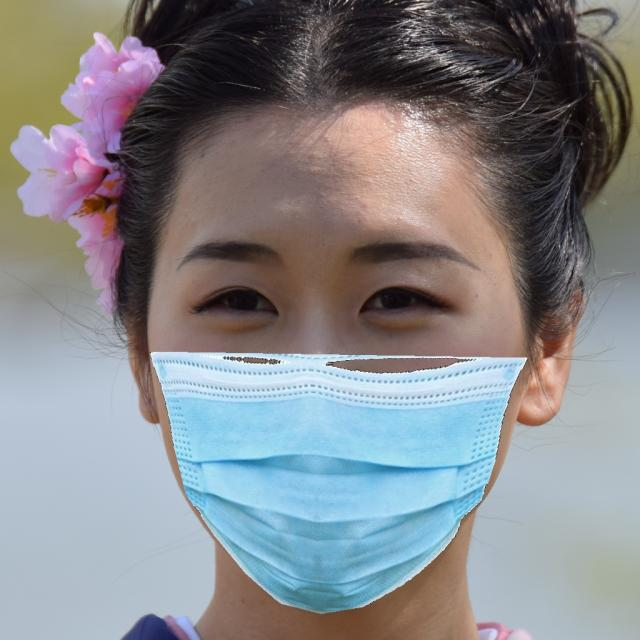1_mascarilla: (146, 348, 528, 619)
